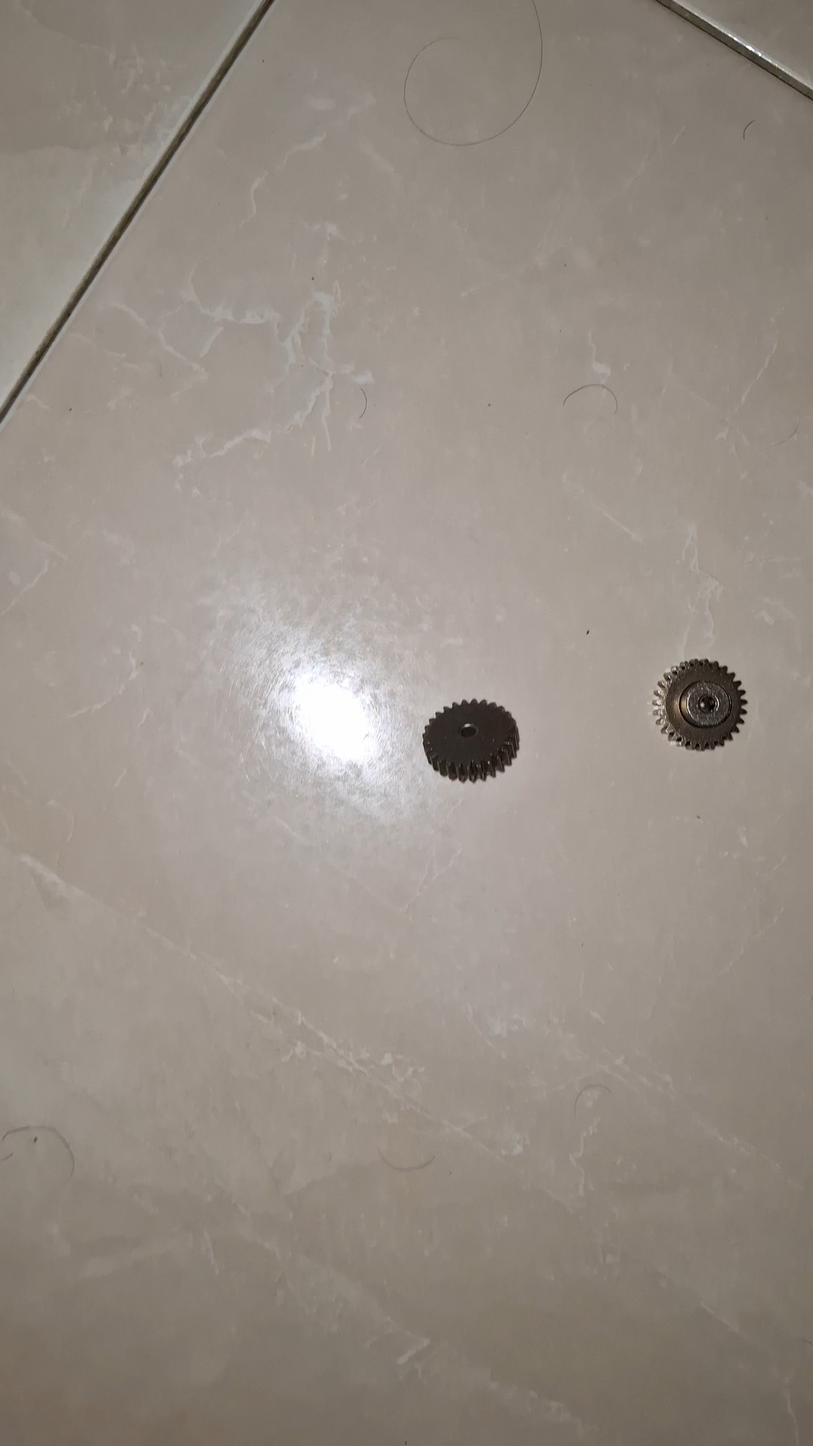spur gear: (654, 659, 745, 749), (423, 700, 519, 781)
